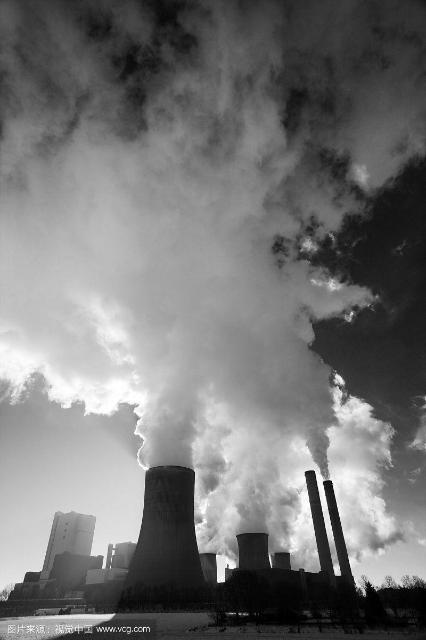smoke: (5, 234, 369, 346), (205, 114, 420, 226), (5, 114, 204, 226), (140, 353, 324, 463), (6, 351, 137, 414), (326, 403, 386, 521), (195, 467, 303, 529)
